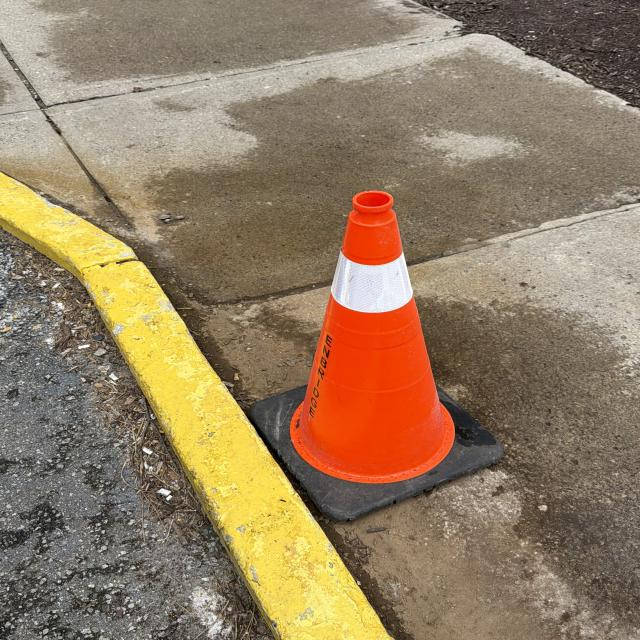Traffic Cone: (245, 189, 510, 520)
